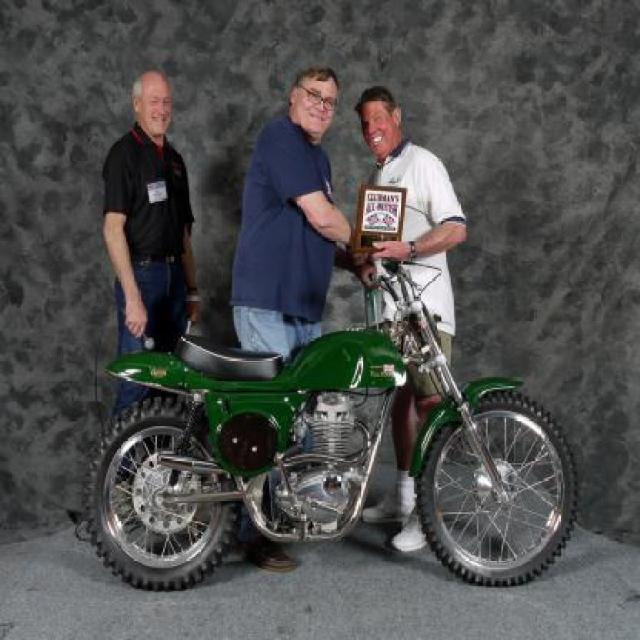bus: (83, 242, 565, 596)
